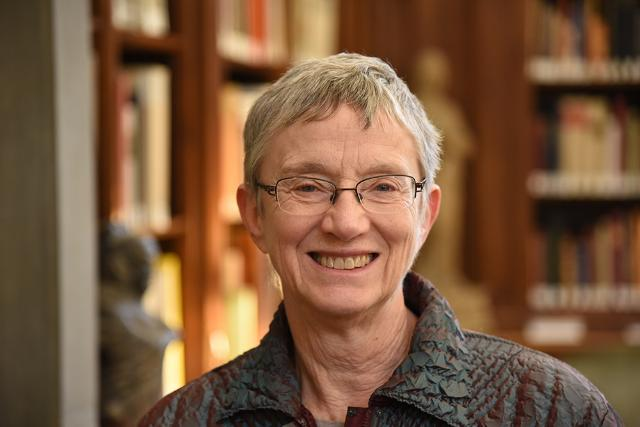crows_feet: (278, 182, 290, 204), (398, 185, 410, 206)
frown_line: (336, 146, 346, 172), (354, 145, 364, 170)
gummy_smile: (291, 214, 321, 248), (370, 219, 394, 249)
masseter: (398, 229, 414, 262), (274, 238, 286, 272)
sad_smile: (292, 254, 308, 283), (382, 256, 392, 289)
